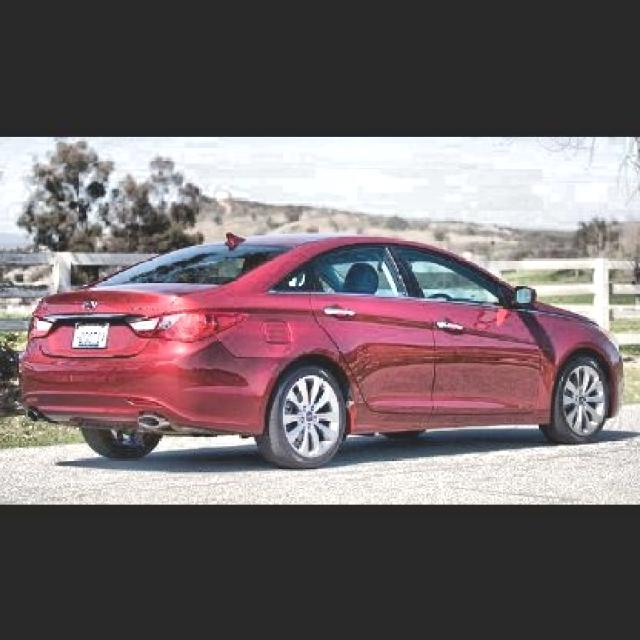red: (0, 225, 623, 470)
